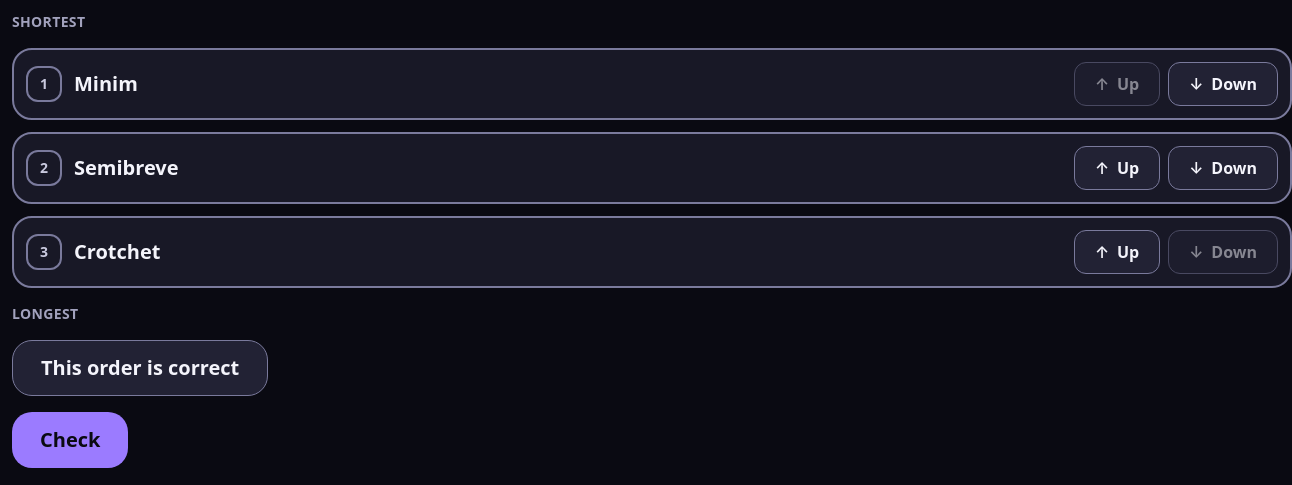
Scenario: Ordering component › commits the starting order from "This order is correct" without any move
Click the button "This order is correct": [140, 368] box [12,340,268,396]
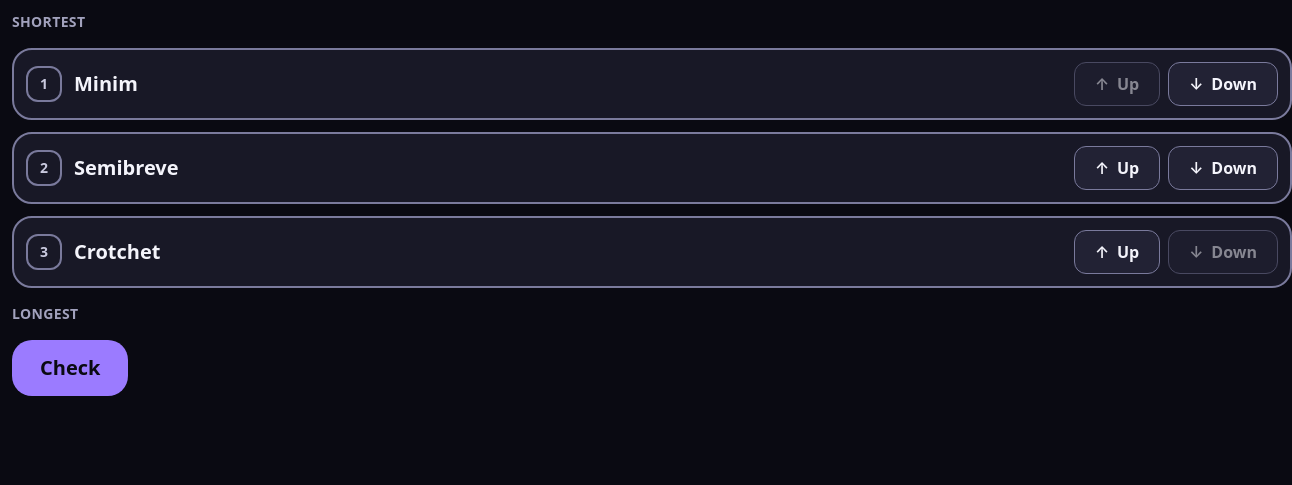
Check: the button "This order is correct" is gone
